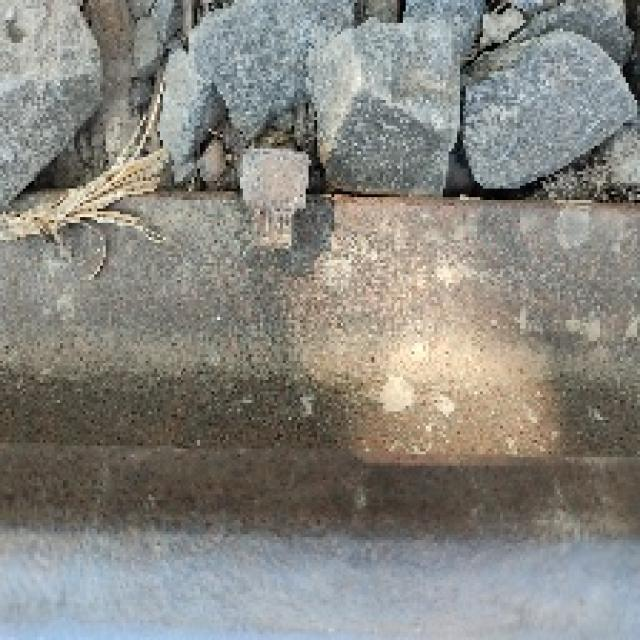Good Fasteners: (240, 149, 309, 246)
